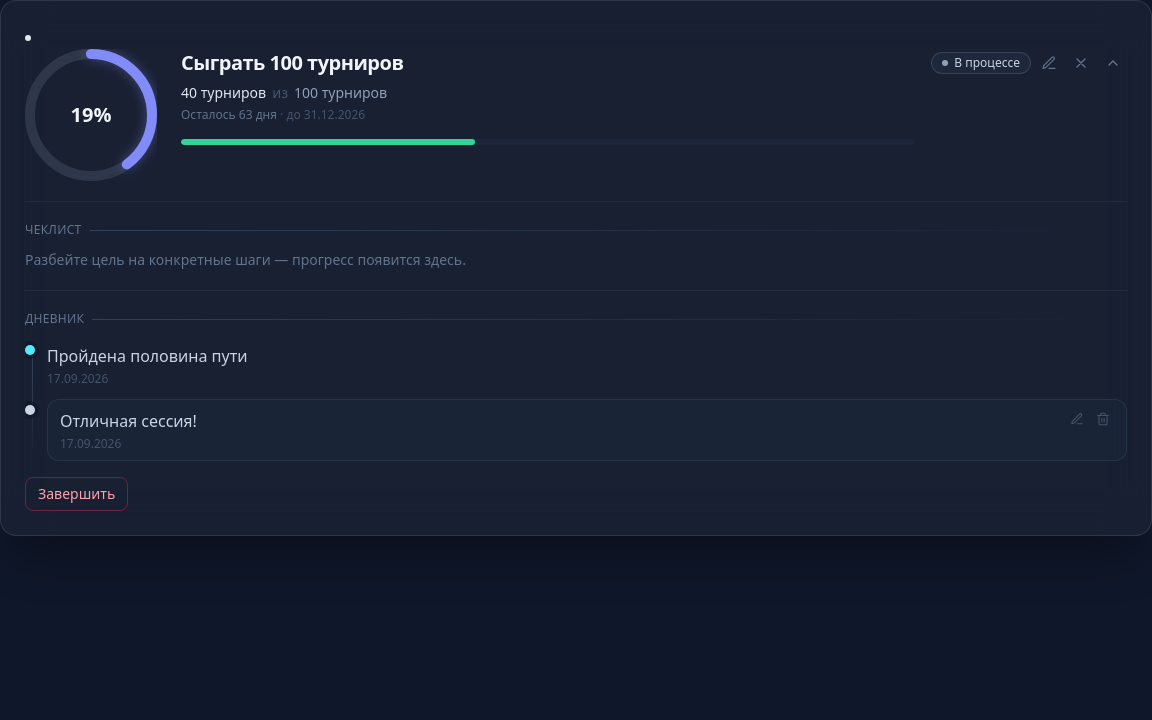
it: GoalCard › collapses and re-expands a default-expanded card by click
Check: the text "Дневник" is shown, box top-left (25, 310), bottom-right (84, 327)
Step 1. Click the button that starts with "Сыграть 100 турниров" → {"x": 91, "y": 115}, box top-left (25, 49), bottom-right (915, 181)
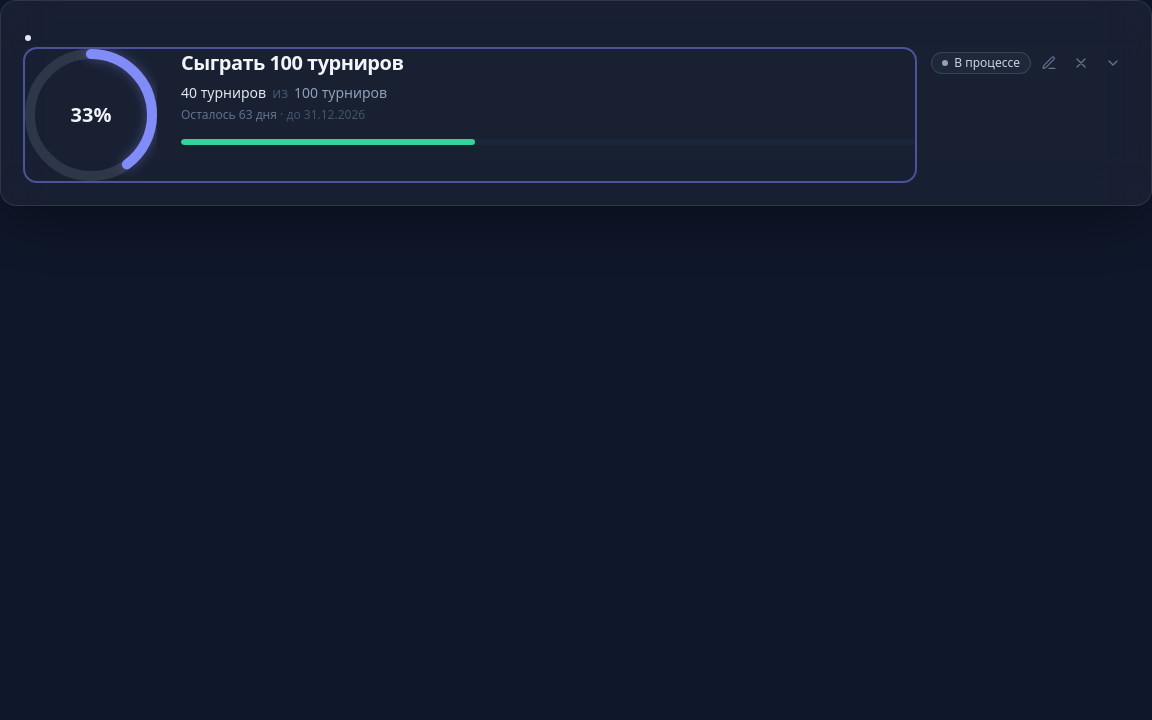
Check: the text "Дневник" is gone
Step 2. Click the button that starts with "Сыграть 100 турниров" → {"x": 91, "y": 115}, box top-left (25, 49), bottom-right (915, 181)
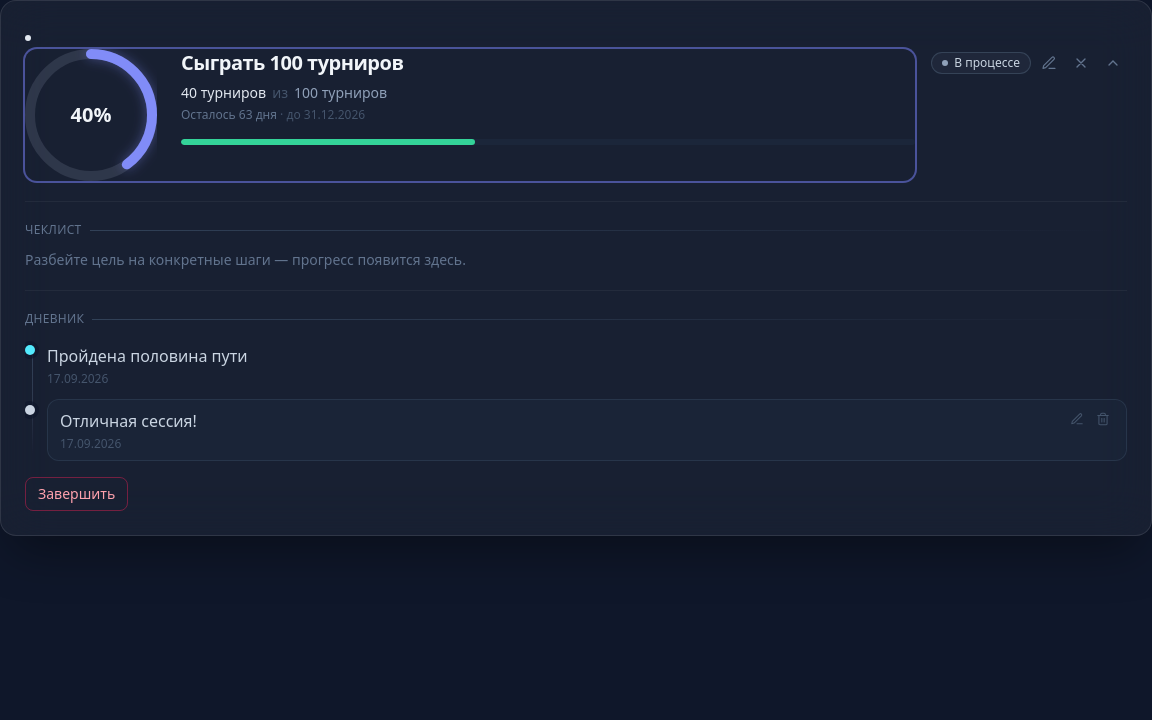
Check: the text "Дневник" is shown, box top-left (25, 310), bottom-right (84, 327)
